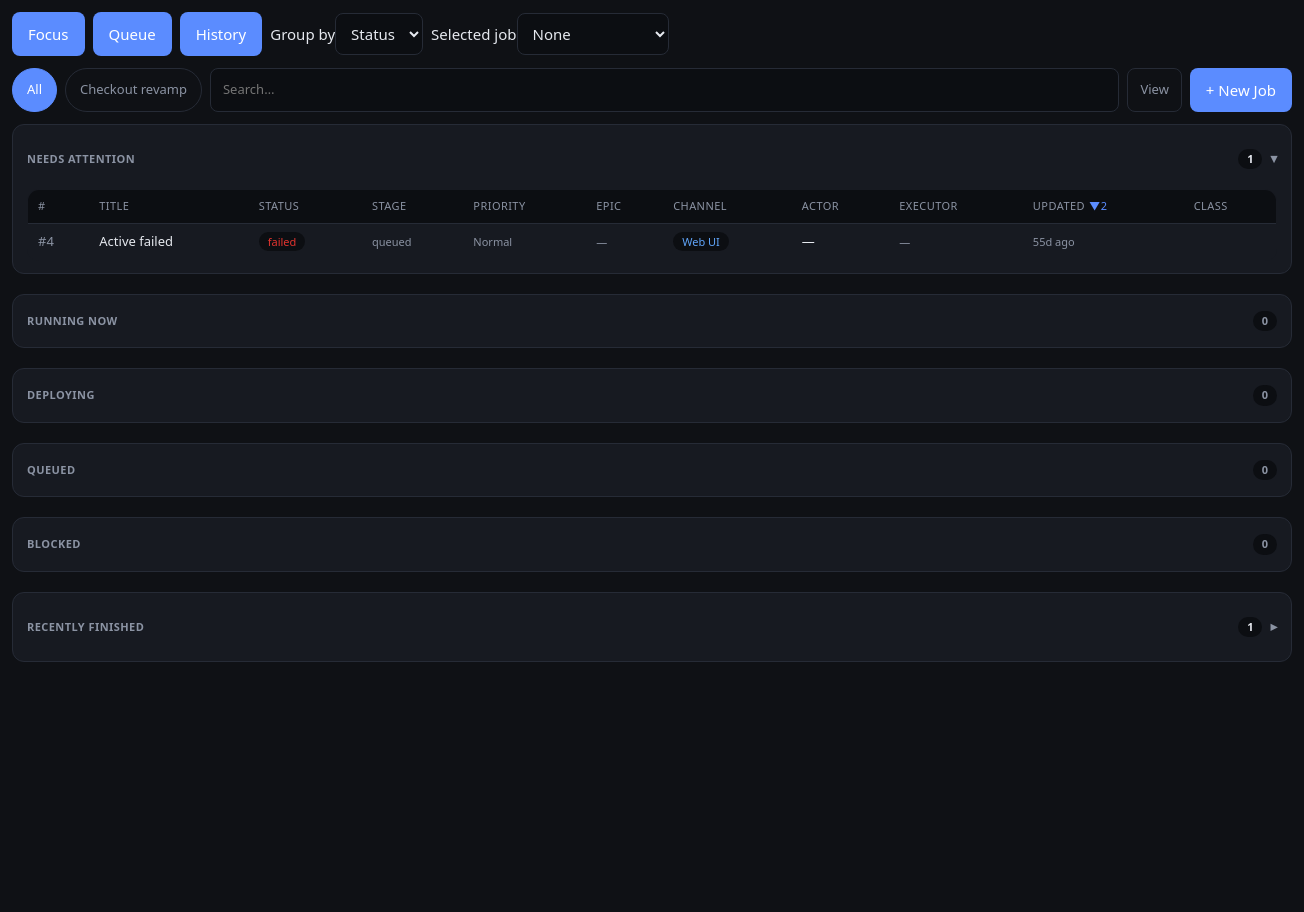
Test: WorkLanes › excludes archived jobs from every focus lane while preserving unarchived behavior
The width and height of the screenshot is (1304, 912).
Check: the text "Active failed" is shown, box [99,232,173,250]
Click the button "Recently Finished 1 ▸" at (86, 626), box [27,605,1277,649]
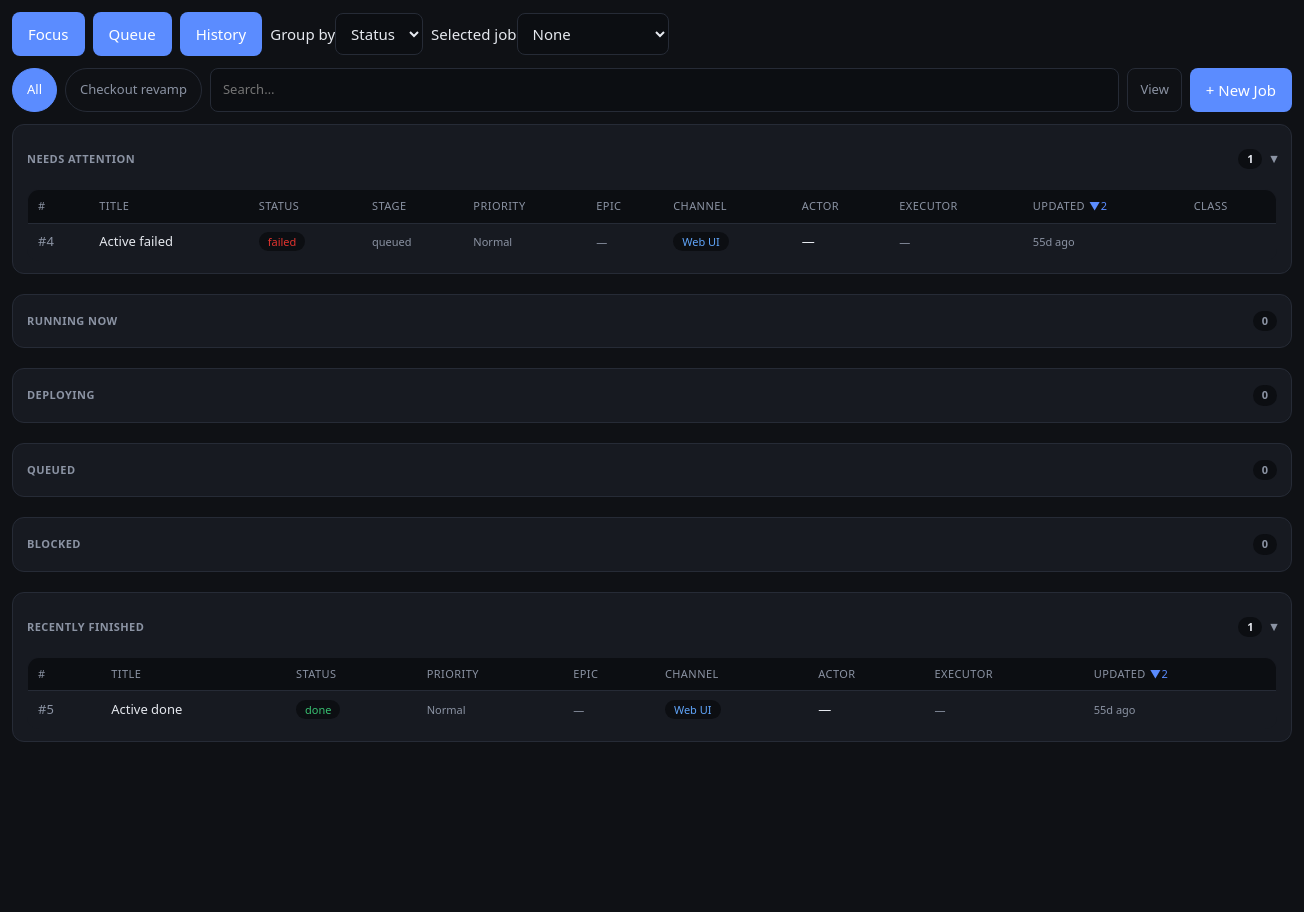
Check: the text "Active done" is shown, box [111,700,182,718]
